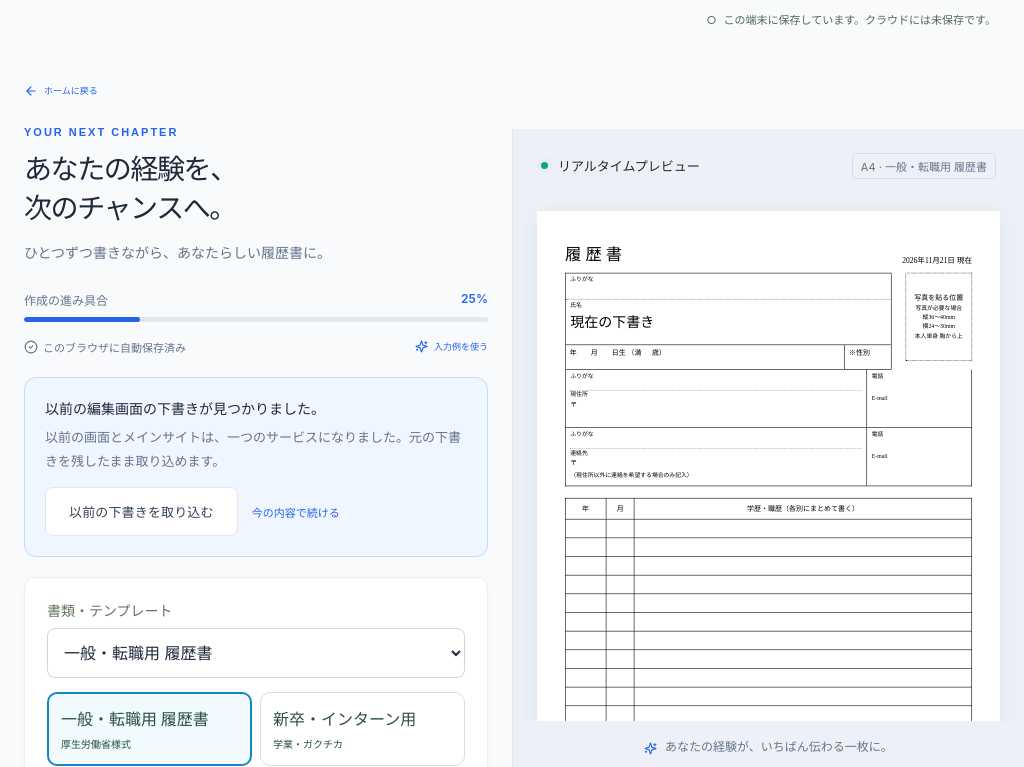
lets a user choose between drafts and undo an import without deleting the original
This screenshot has width=1024, height=767.
Click the button "以前の下書きを取り込む": (141, 512) [45,487,238,536]
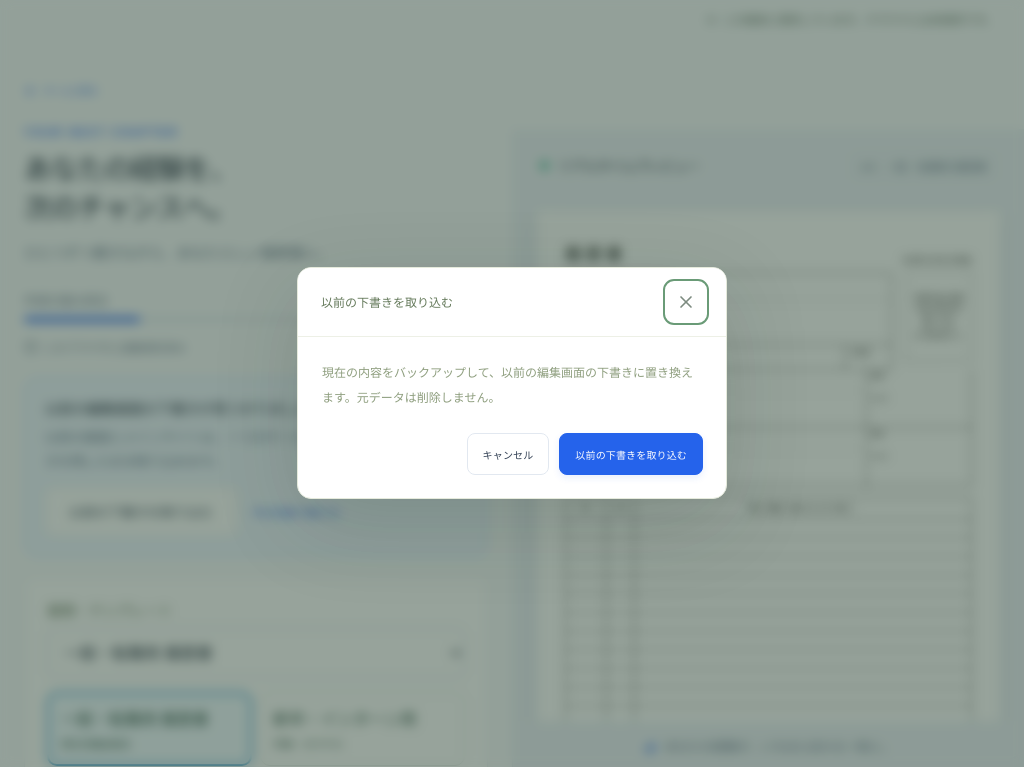
Click the button "以前の下書きを取り込む": (631, 454) [559,433,703,475]
(page scrolled)
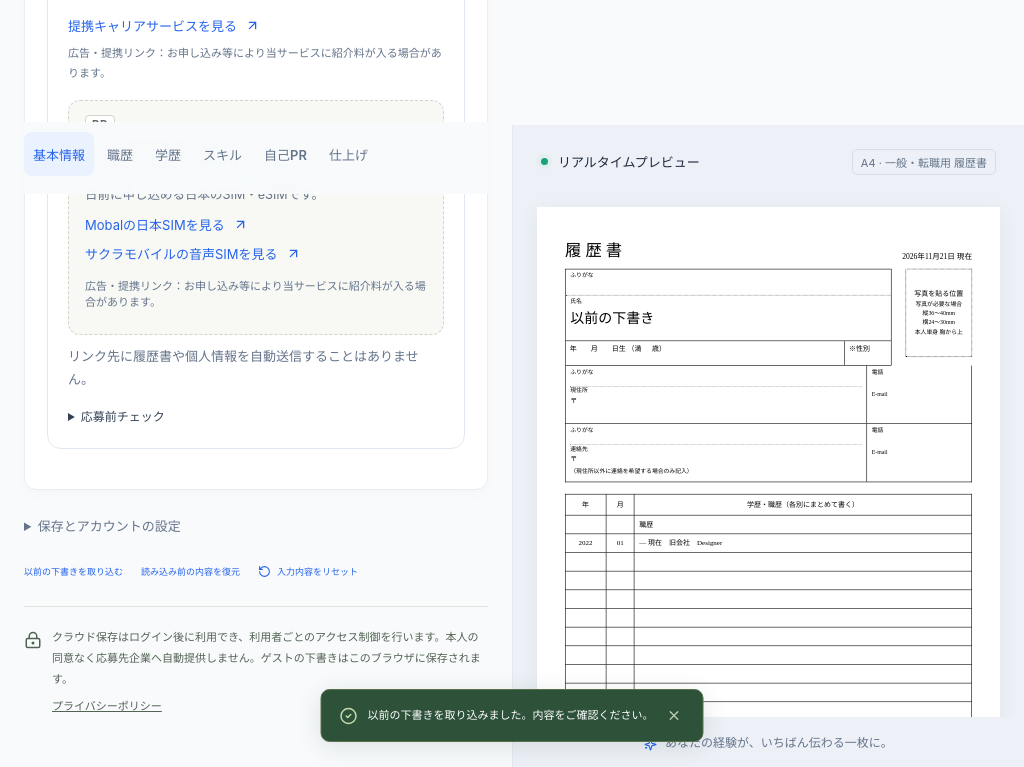
Click the button "読み込み前の内容を復元": (190, 572) [141,561,240,582]
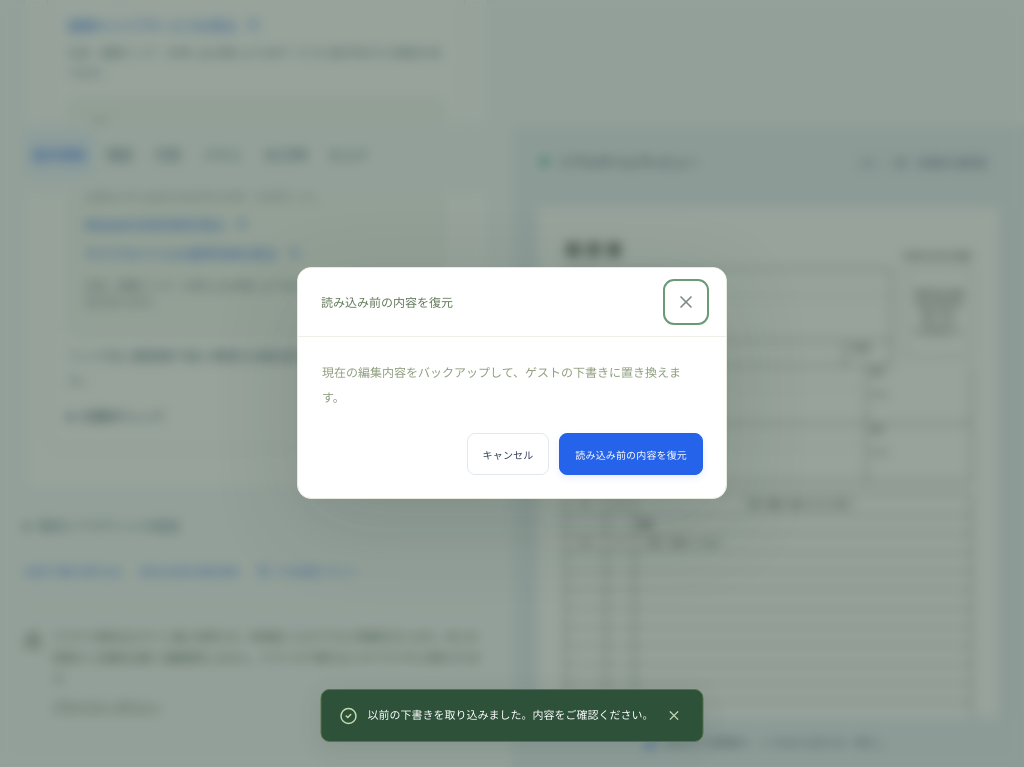
Click the button "読み込み前の内容を復元": (631, 454) [559,433,703,475]
(page scrolled)
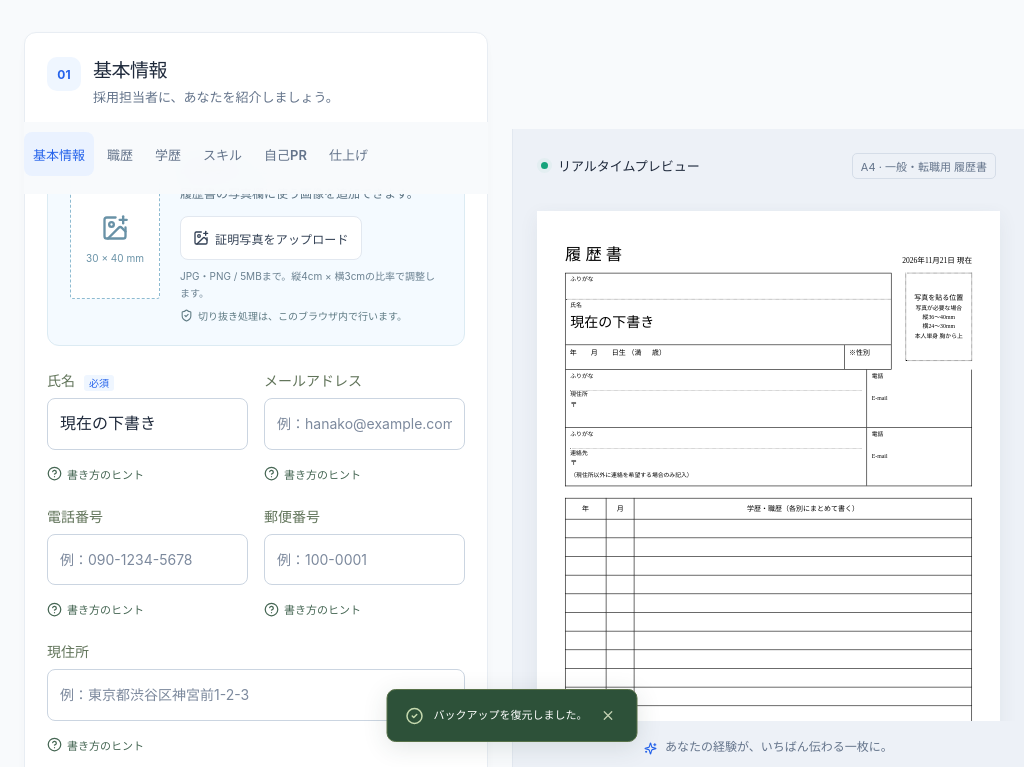
Now the field labelled "氏名" holds "現在の下書き", box [47,398,248,450]
